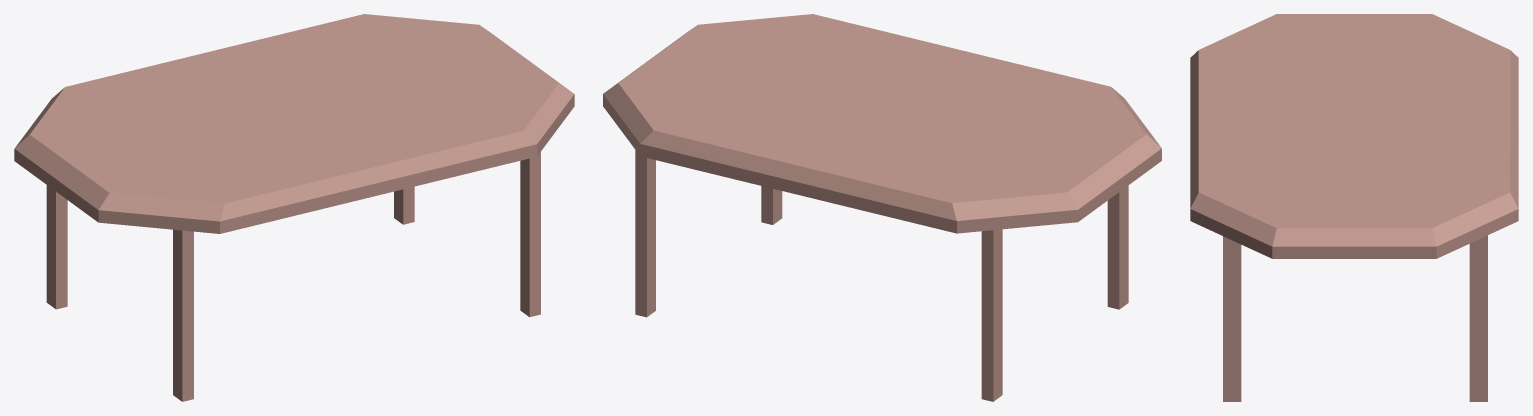
The model's file is KitchenTable_MOD.fbx.
3 renders of one model, left to right at view 1: azimuth 30°, elevation 25°; view 2: azimuth 150°, elevation 25°; view 3: azimuth 270°, elevation 25°, orthographic. The views are drawn at different scales.
Parts seen in each view (by area): view 1: Cube; view 2: Cube; view 3: Cube.
Boxes of the visible parts, bbox=[...] form: Cube: bbox=[14, 14, 574, 401]; Cube: bbox=[603, 14, 1161, 401]; Cube: bbox=[1190, 14, 1518, 401].
Size of the model in its own units: 224 by 90 by 137.
